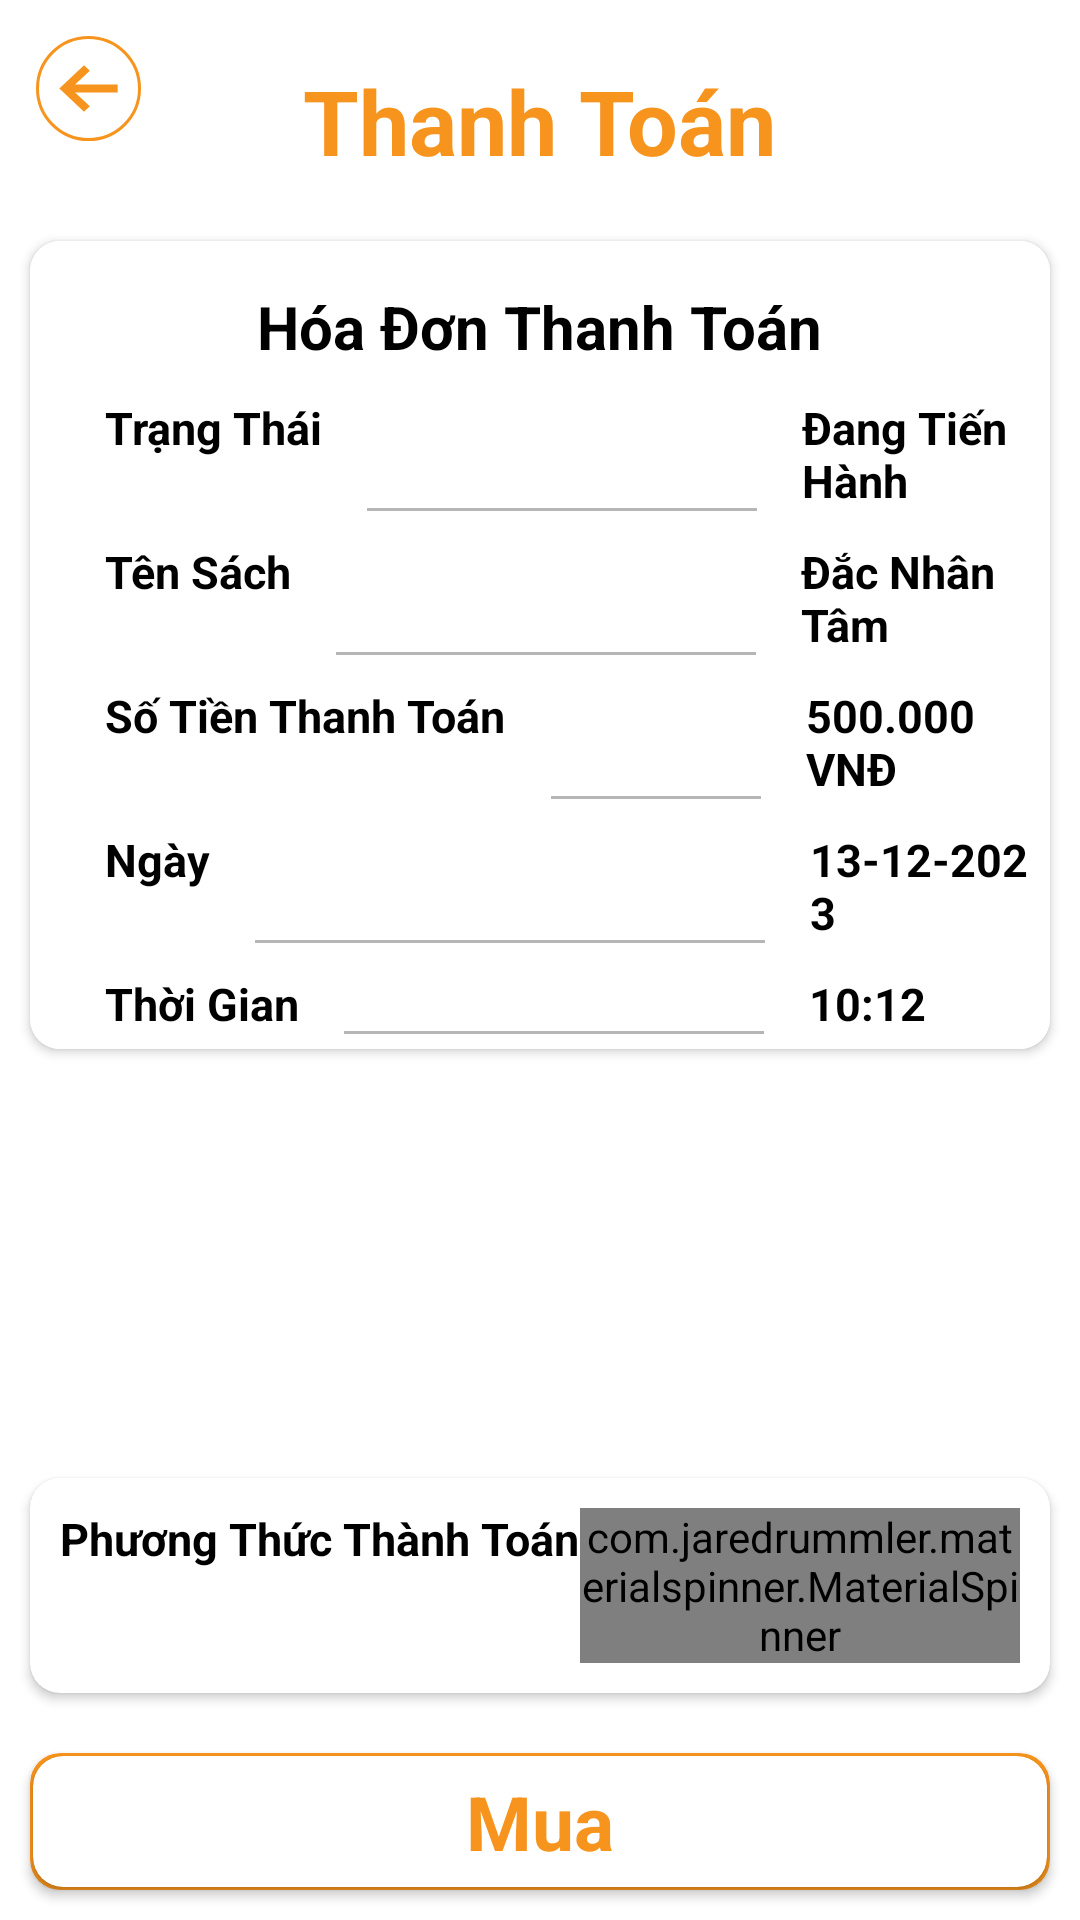

Point at icon controls on the screen. Image size 1080px×1920px, points as [x,y].
back: [88,88]
